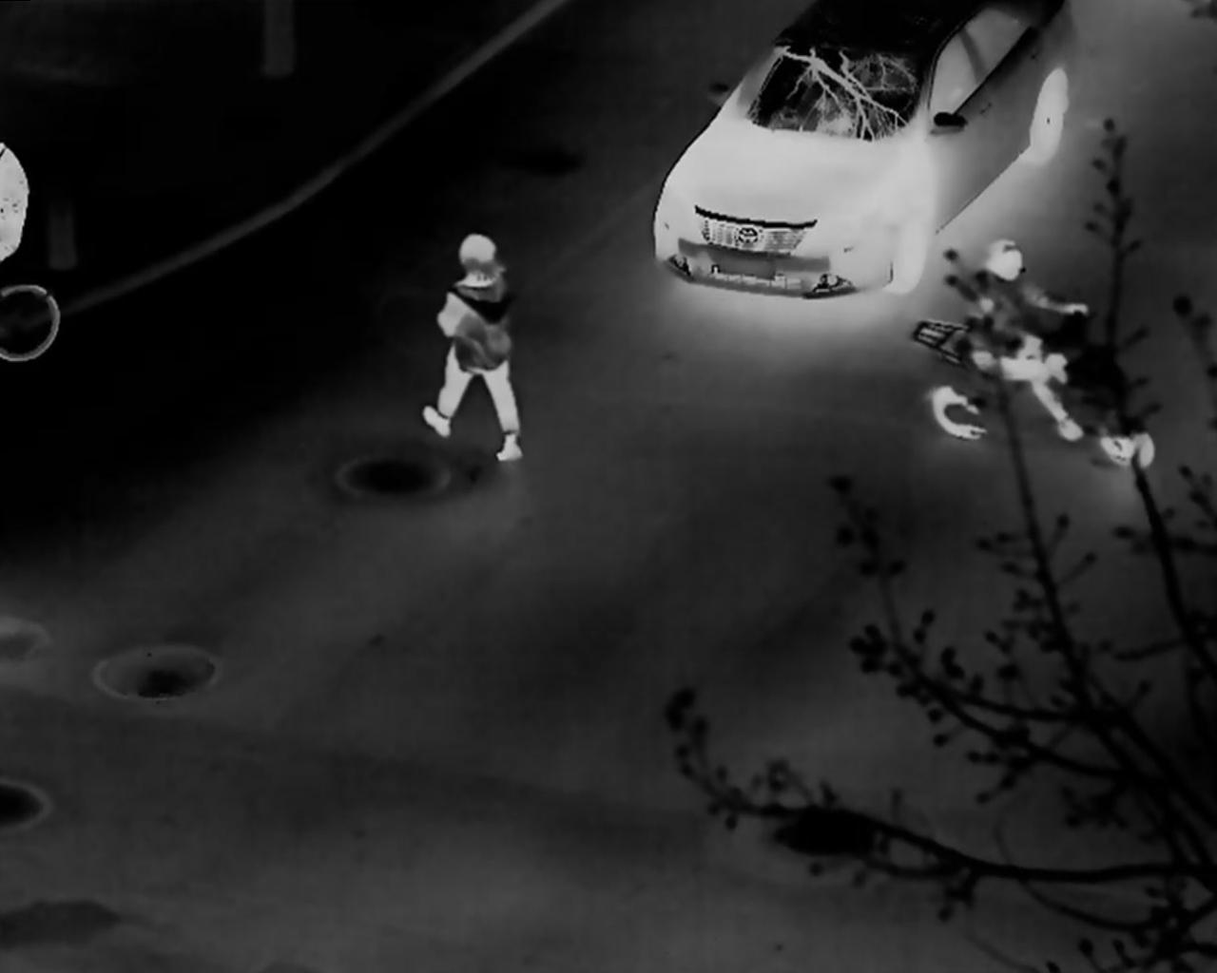person: (965, 238, 1089, 441), (421, 232, 525, 462)
